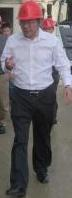boots: (36, 171, 48, 182), (0, 124, 6, 133)
hard-hat: (16, 0, 42, 21)
